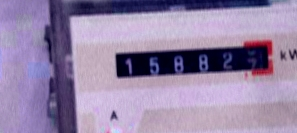1: (119, 56, 132, 75)
2: (218, 50, 231, 70)
5: (144, 55, 157, 75)
7: (243, 57, 255, 71)
8: (194, 52, 207, 74), (169, 53, 182, 74)
screen: (104, 35, 280, 87)
